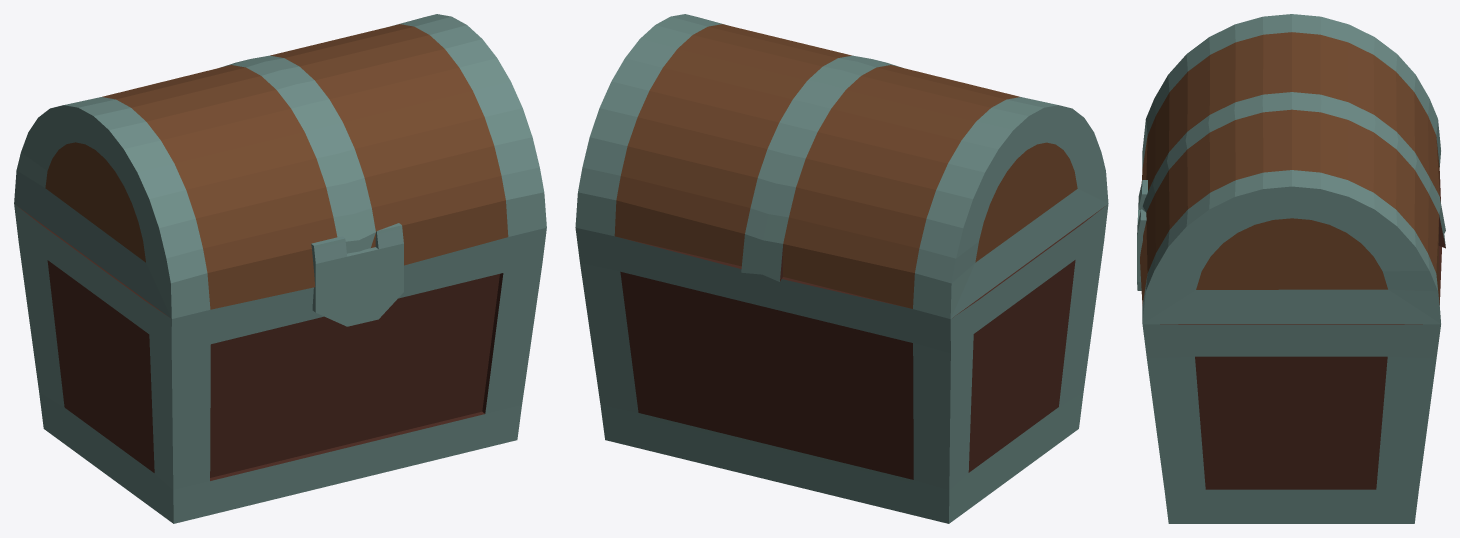
File: SM_Chest.fbx
3 renders of one model, left to right at view 1: azimuth 30°, elevation 25°; view 2: azimuth 150°, elevation 25°; view 3: azimuth 270°, elevation 25°, orthographic. The views are drawn at different scales.
Visible parts, largest first — view 1: SM_chest; view 2: SM_chest; view 3: SM_chest.
Part boxes in pixels (x1,y1,x2,y2): SM_chest: (14, 14, 546, 523); SM_chest: (575, 14, 1108, 523); SM_chest: (1137, 14, 1445, 523).
Size of the model in its own units: 0.3554 by 0.3283 by 0.2667.
1 material, 1 textured.
